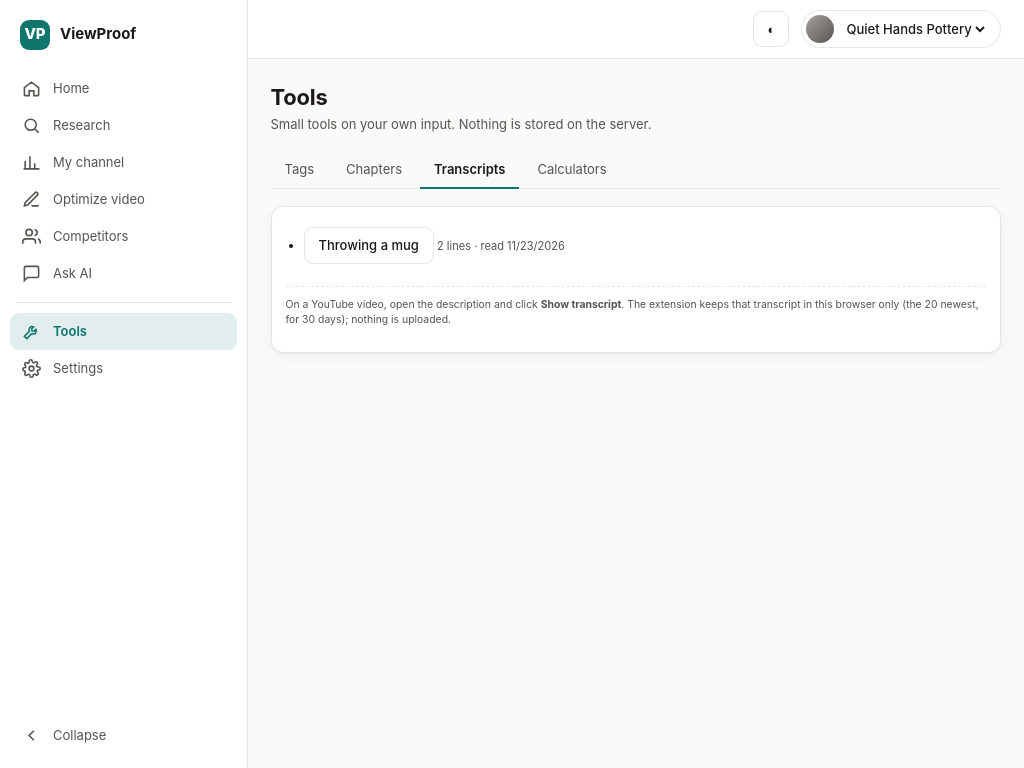
Tools › transcripts: lists what this browser read; open, search and copy text
Click the button "Throwing a mug" at (369, 245), box x1=304 y1=227 x2=434 y2=264
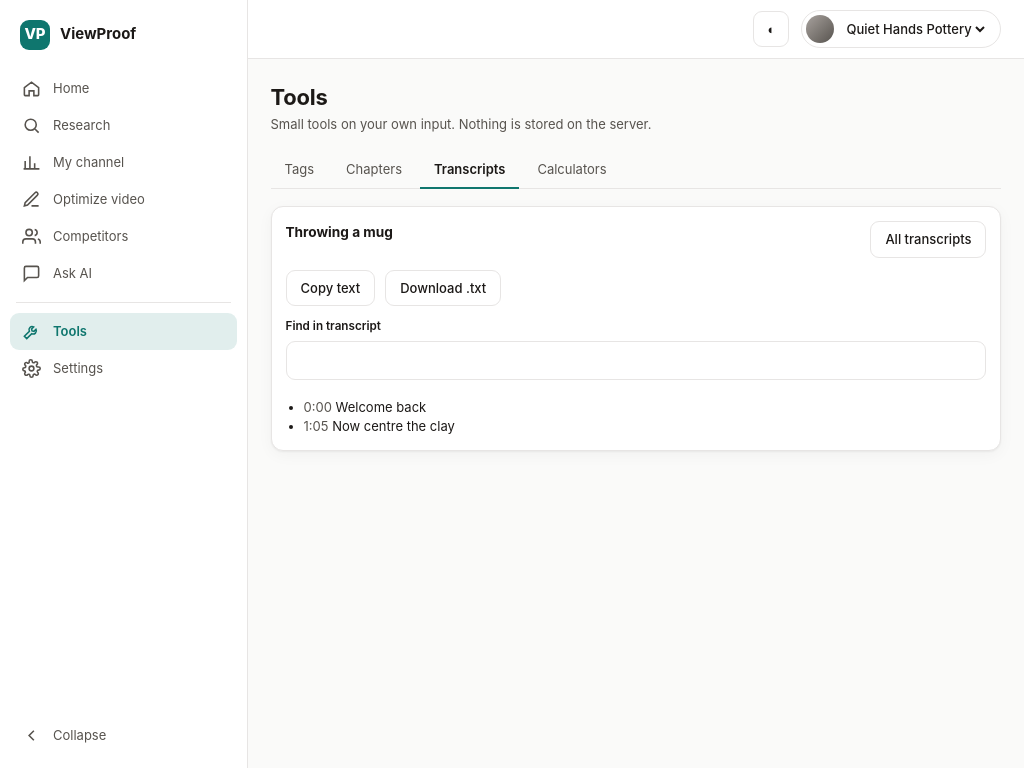
Now the text "Welcome back" is shown, box x1=336 y1=399 x2=426 y2=415
Type "clay" into the field labelled "Find in transcript" at (636, 361), box x1=286 y1=341 x2=986 y2=380
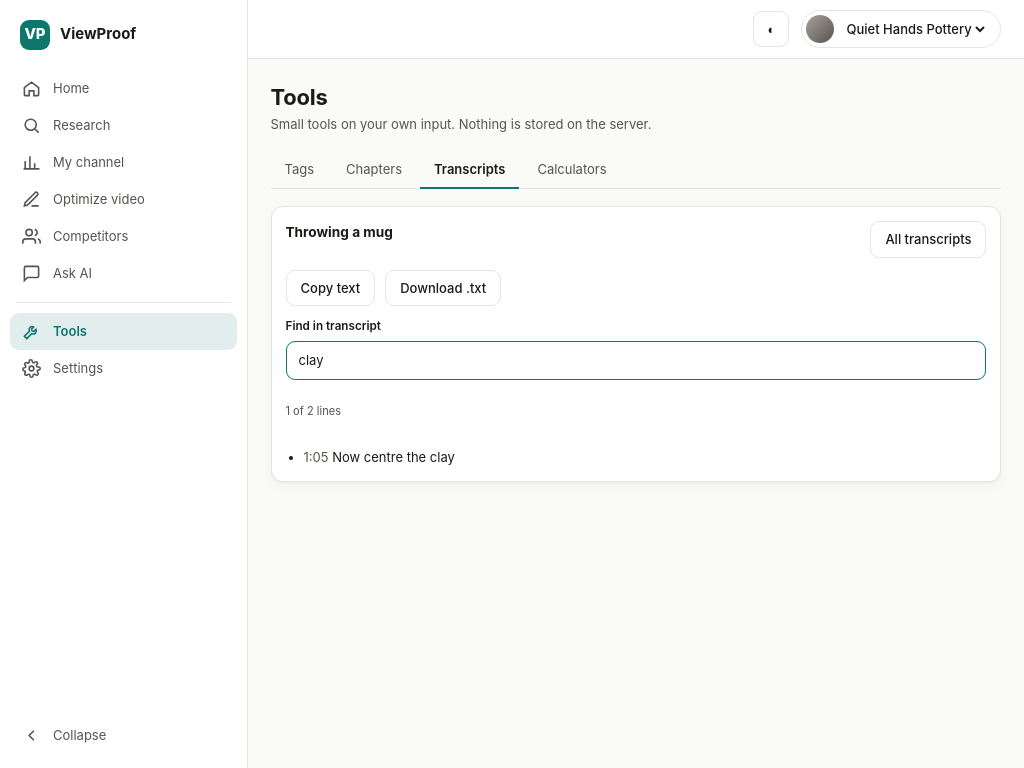
Now the text "Welcome back" is gone
Now the text "1 of 2 lines" is shown, box x1=286 y1=404 x2=341 y2=418
